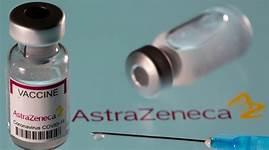Syringe: (120, 5, 255, 100), (4, 1, 71, 150)
